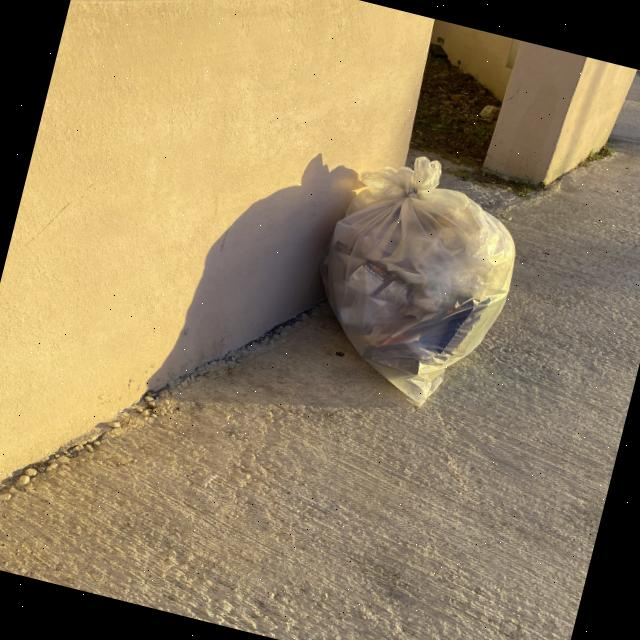Recyclable Material: (295, 144, 535, 421)
